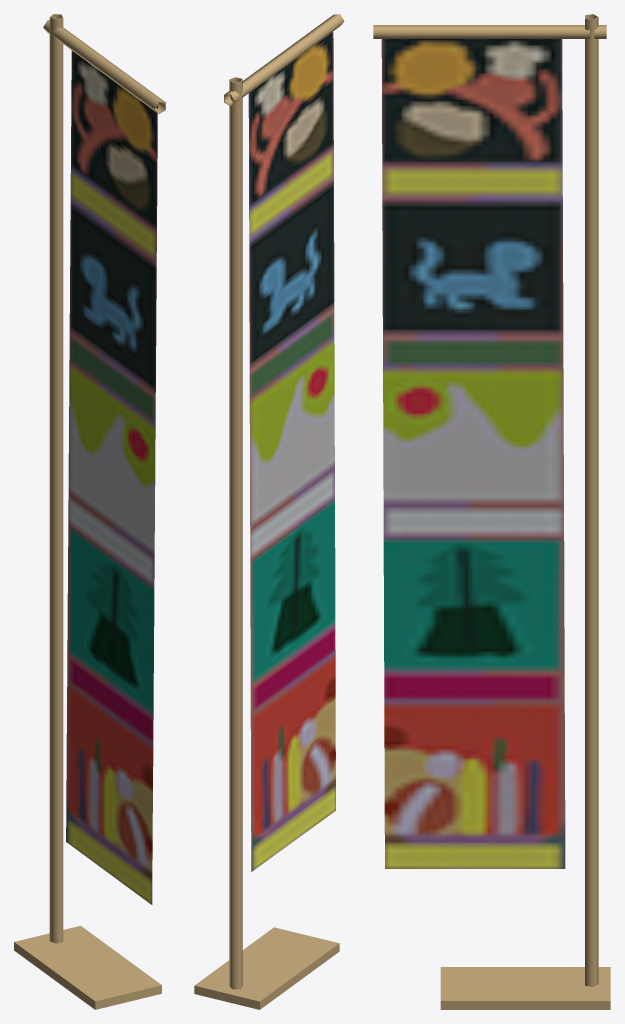
File: Flag03.fbx
3 views of the same model, side by side, from view 1: azimuth 30°, elevation 25°; view 2: azimuth 150°, elevation 25°; view 3: azimuth 270°, elevation 25° (orthographic). The views are drawn at different scales.
Parts seen in each view (by area): view 1: Flag03; view 2: Flag03; view 3: Flag03.
Boxes of the visible parts, x1,y1,x2,y2 form: Flag03: (14, 14, 165, 1009); Flag03: (194, 14, 344, 1009); Flag03: (373, 14, 610, 1009).
Size of the model in its own units: 1.34 by 17.87 by 3.94.
2 materials, 1 textured.
